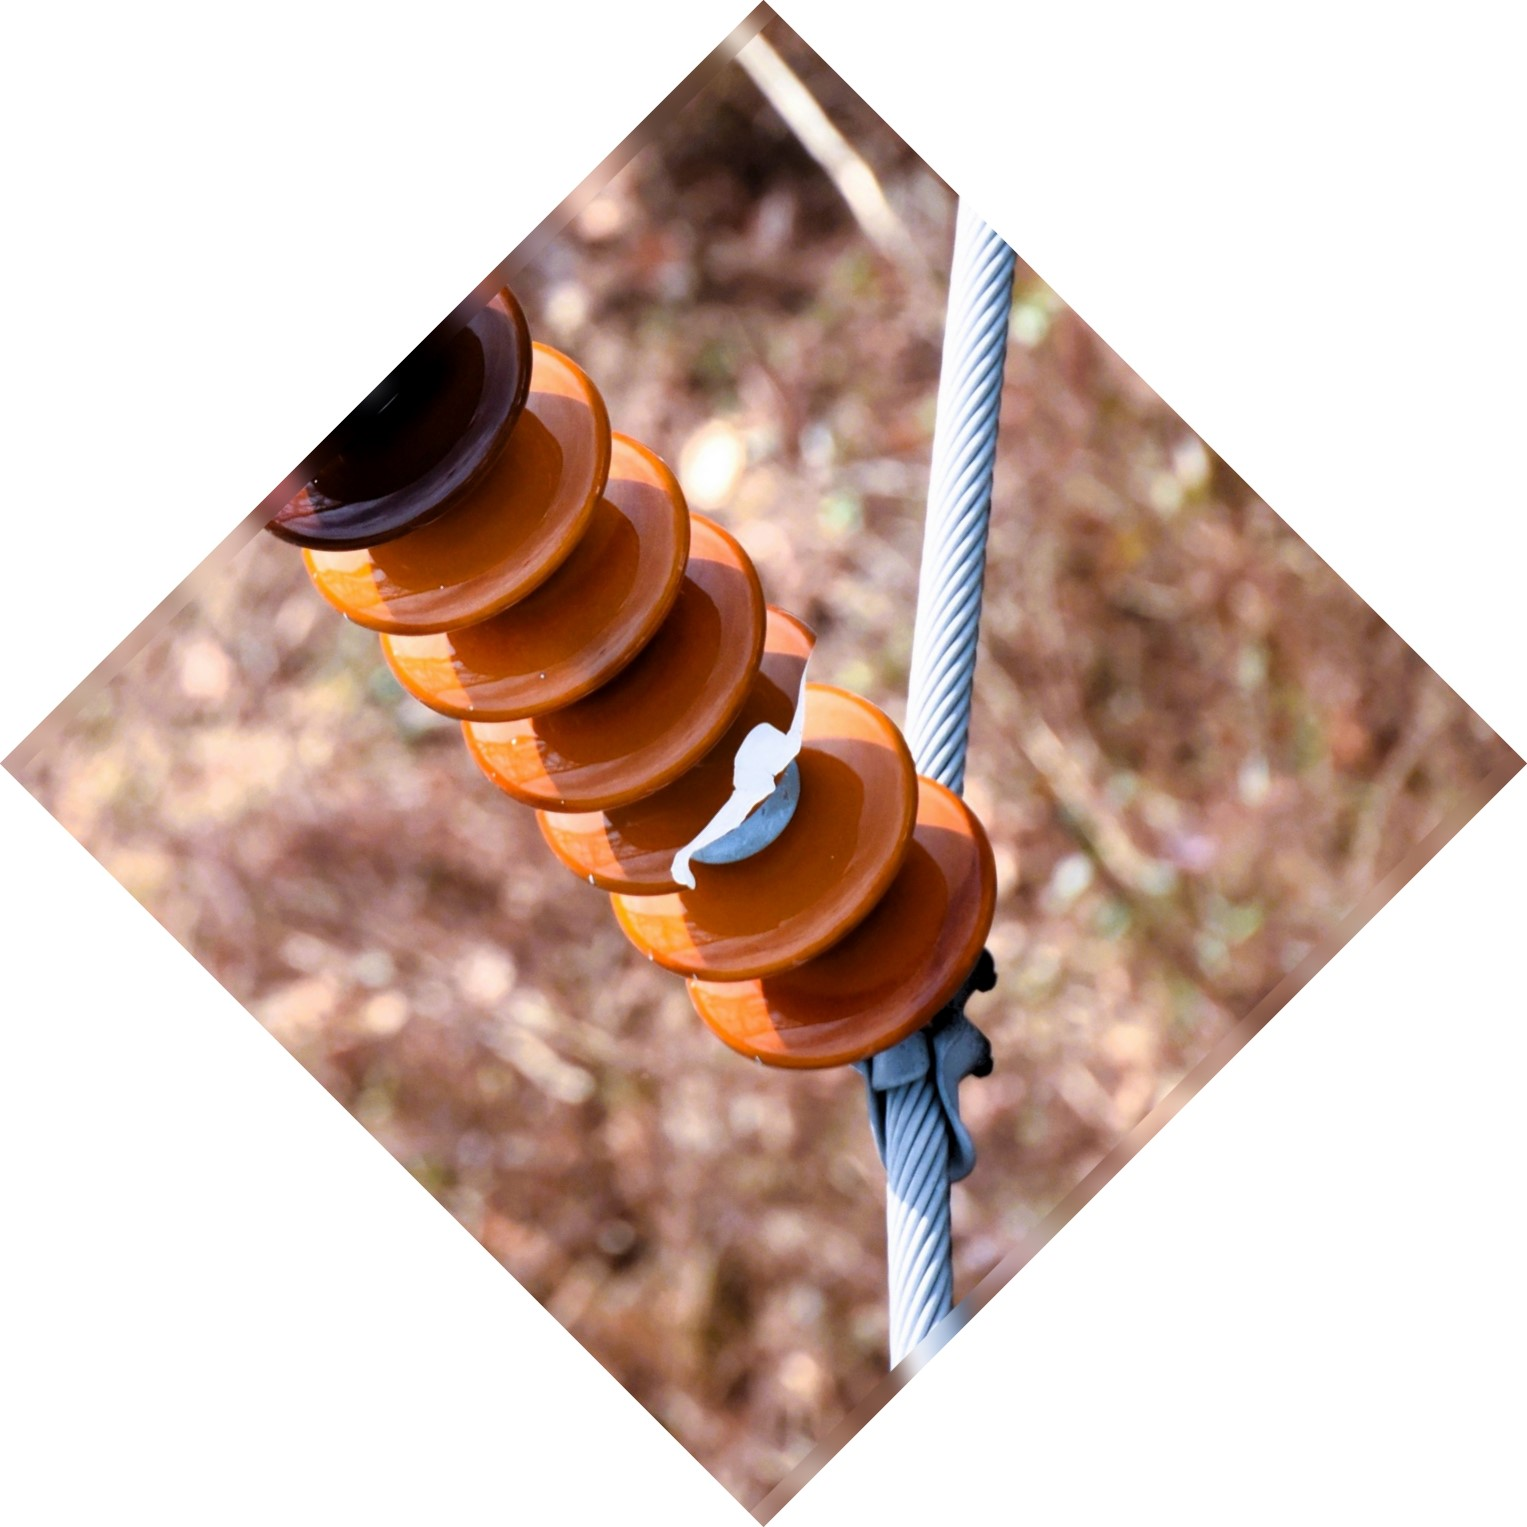insulator breakage: (529, 612, 843, 896)
